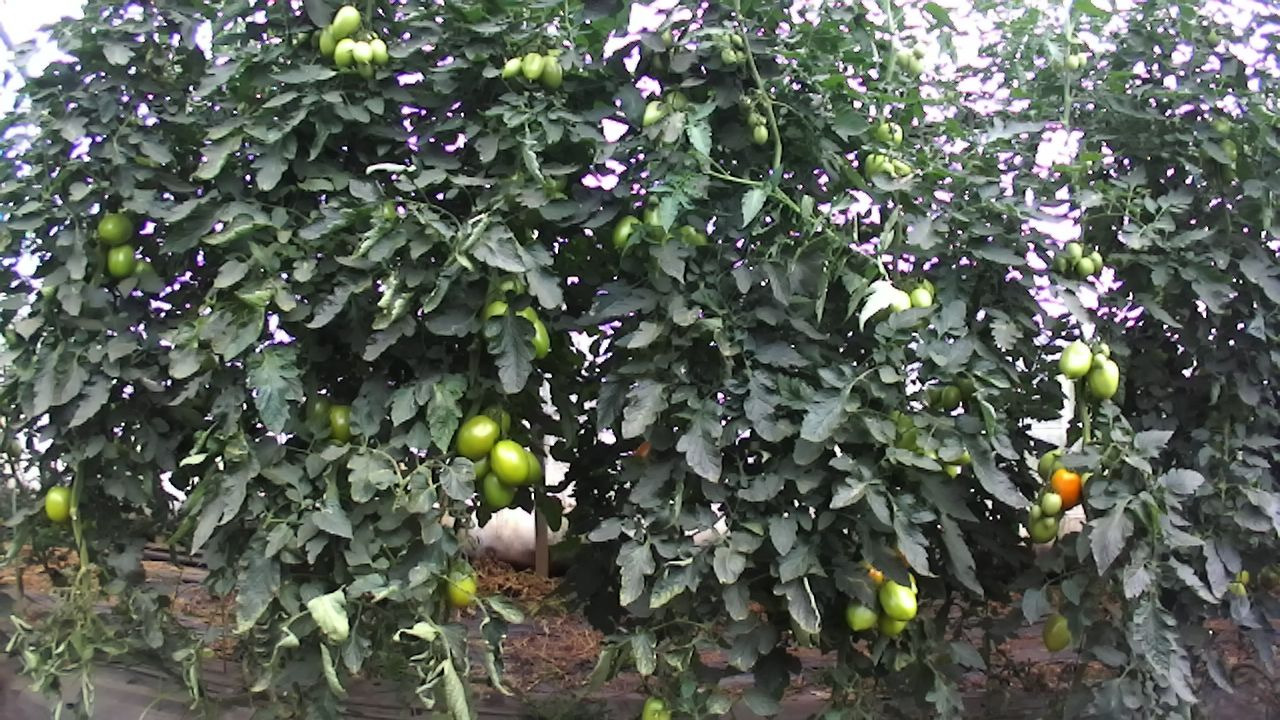tomato: (453, 411, 503, 464), (486, 436, 531, 490), (876, 578, 919, 623), (1084, 353, 1122, 401), (1056, 337, 1095, 381), (1048, 465, 1084, 512), (94, 209, 136, 249), (480, 470, 520, 510), (1040, 611, 1073, 654), (842, 596, 879, 634), (610, 212, 644, 251), (43, 482, 73, 524), (444, 570, 477, 608), (105, 242, 137, 281), (329, 3, 362, 40), (1027, 510, 1061, 545), (538, 53, 563, 91), (519, 50, 545, 85), (318, 22, 340, 59), (332, 36, 356, 67), (499, 53, 525, 81), (1039, 490, 1065, 518), (368, 36, 391, 67), (940, 382, 962, 412), (351, 39, 374, 66), (1063, 239, 1083, 269), (909, 287, 932, 310), (1075, 255, 1096, 280), (751, 123, 770, 147), (1089, 349, 1107, 370)
